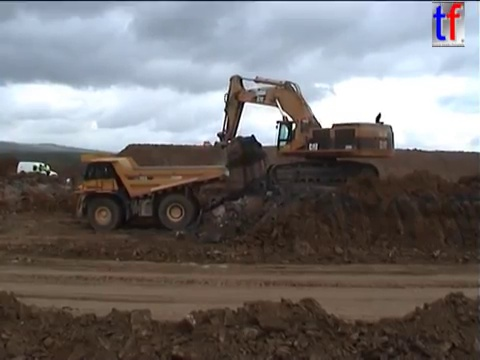excavator: (211, 72, 396, 192)
truck: (64, 151, 227, 232)
worker: (43, 162, 51, 182), (36, 162, 43, 178)
